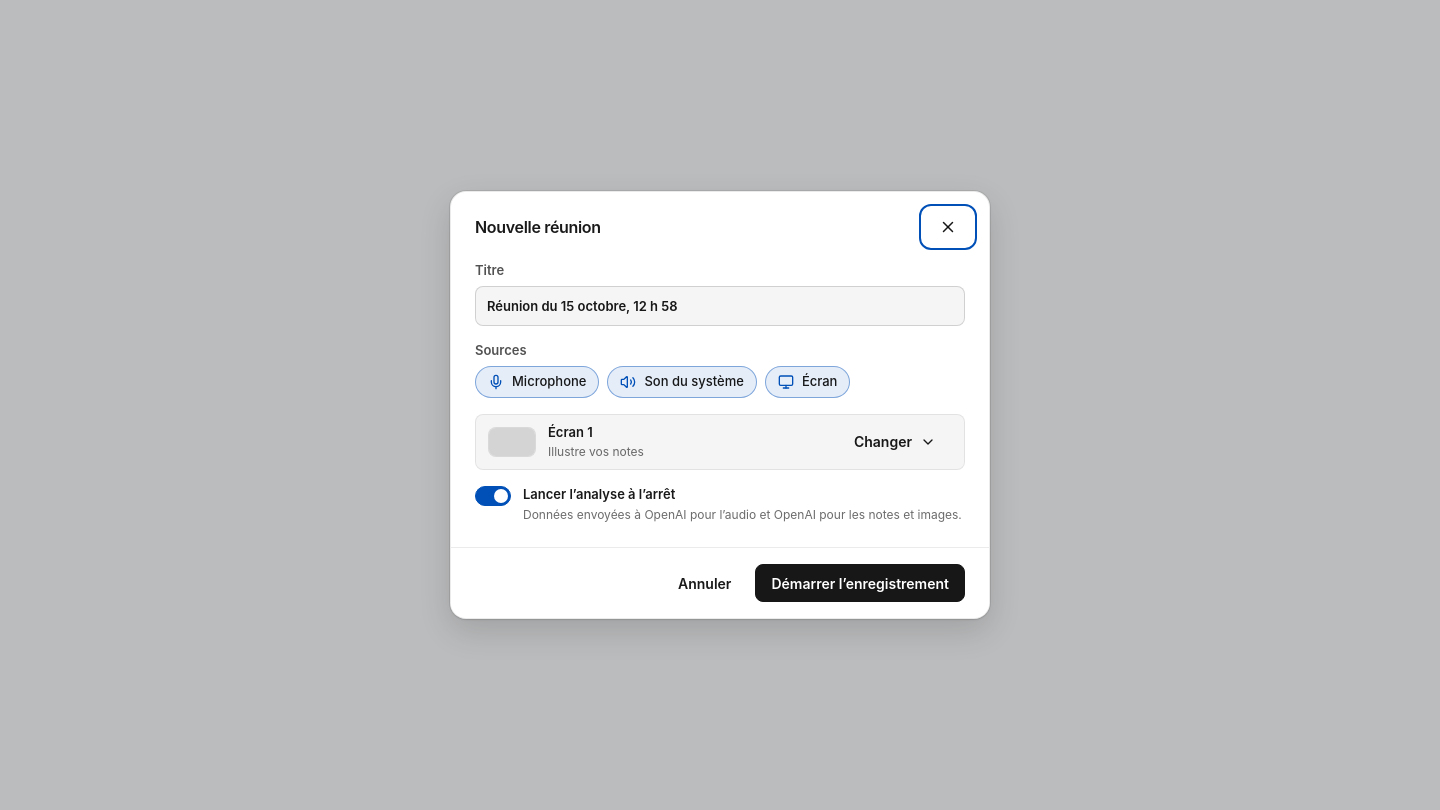
Test: turns the system sound off with the screen and says the notes get no image
Expected: the switch is shown, [475,486,965,523]
Click the button "Écran" at (808, 382), box [765,366,850,398]
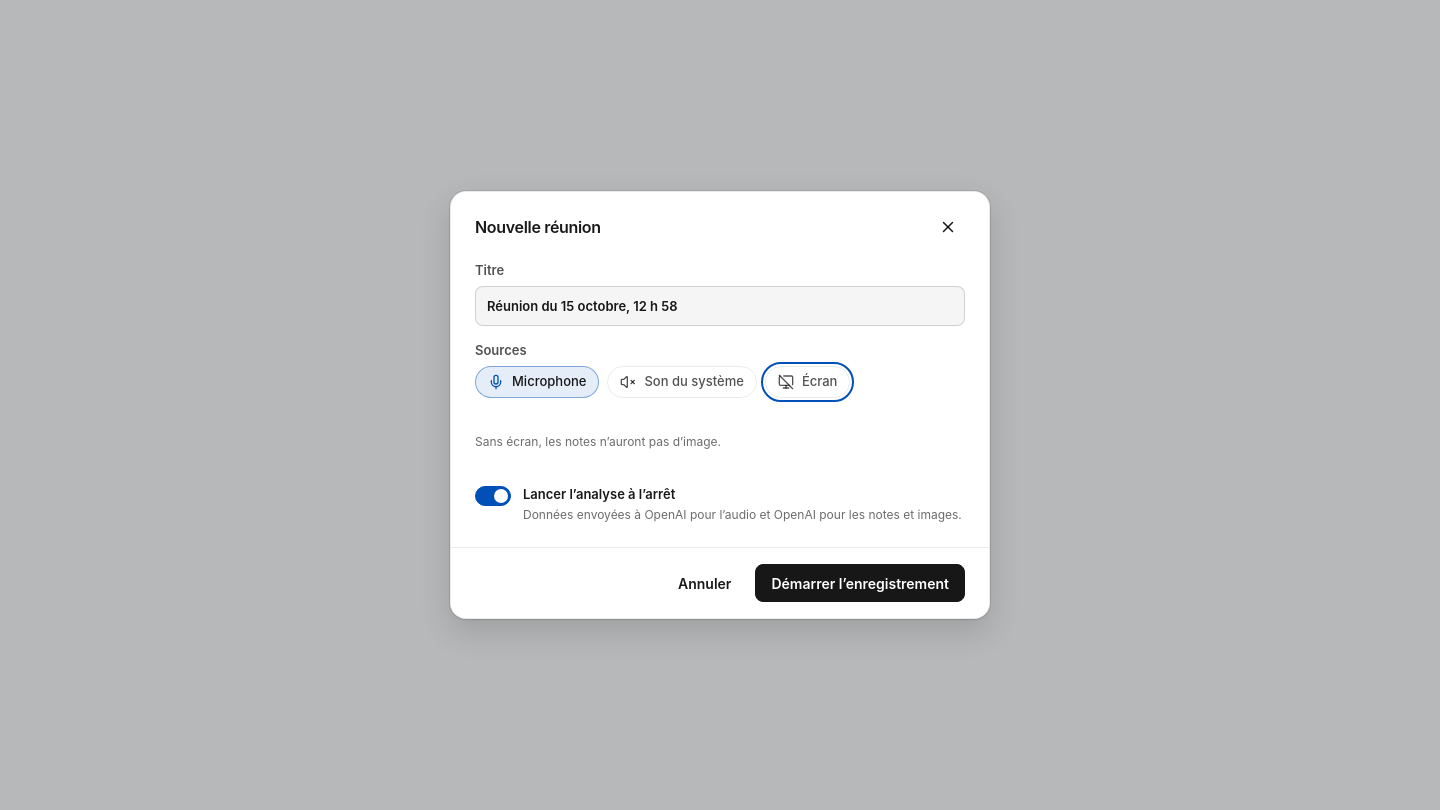
Expected: the text "Sans écran, les notes n’auront pas d’image." is shown, [475,434,721,448]
Expected: the button "Changer" is gone
